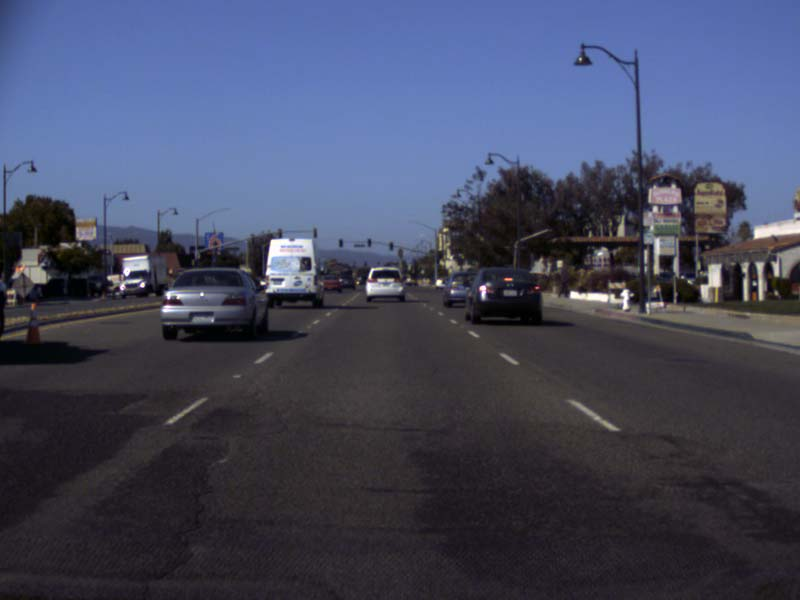Green: (471, 256, 474, 263), (436, 260, 438, 265)
